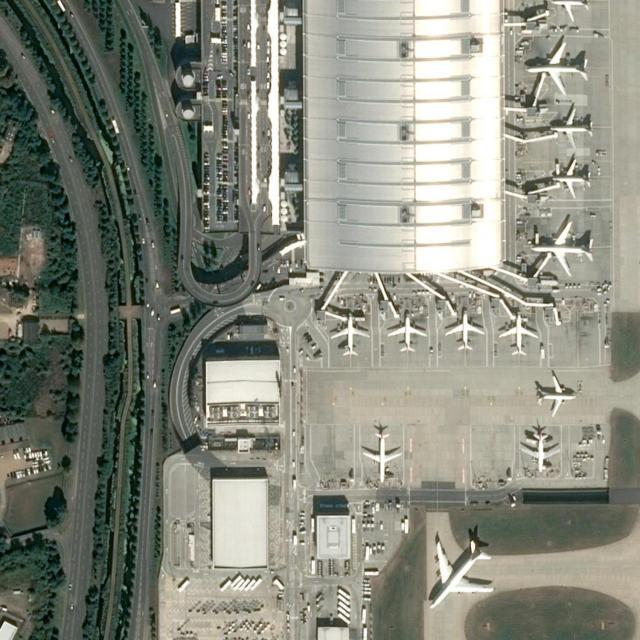Aircraft: (427, 535, 496, 609), (528, 220, 594, 276), (525, 41, 587, 95), (362, 432, 402, 480), (328, 315, 370, 357), (548, 109, 592, 148), (519, 430, 559, 471), (500, 312, 537, 356), (387, 314, 427, 354), (446, 311, 484, 351), (537, 376, 575, 416), (555, 160, 591, 197), (547, 0, 589, 20)
